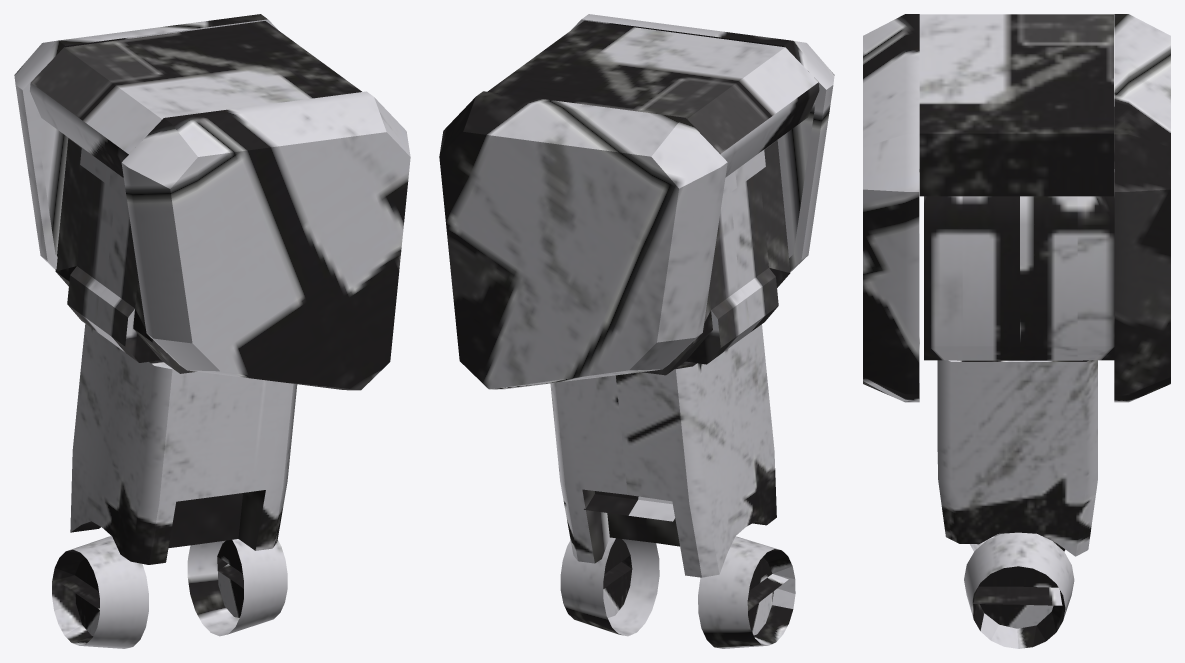
The model's file is upperA.obj.
The picture shows the model from 3 angles, left to right: view 1: azimuth 30°, elevation 25°; view 2: azimuth 150°, elevation 25°; view 3: azimuth 270°, elevation 25°; orthographic projection.
Visible parts, largest first — view 1: handA:polySurface666; view 2: handA:polySurface666; view 3: handA:polySurface666.
Part boxes in pixels (left/top/right/bottom): handA:polySurface666: left=14, top=14, right=410, bottom=648; handA:polySurface666: left=439, top=14, right=834, bottom=648; handA:polySurface666: left=863, top=14, right=1170, bottom=648.
Bounding box in the file's own units: 2.81 × 5.56 × 2.73.
1 material, 1 textured.
